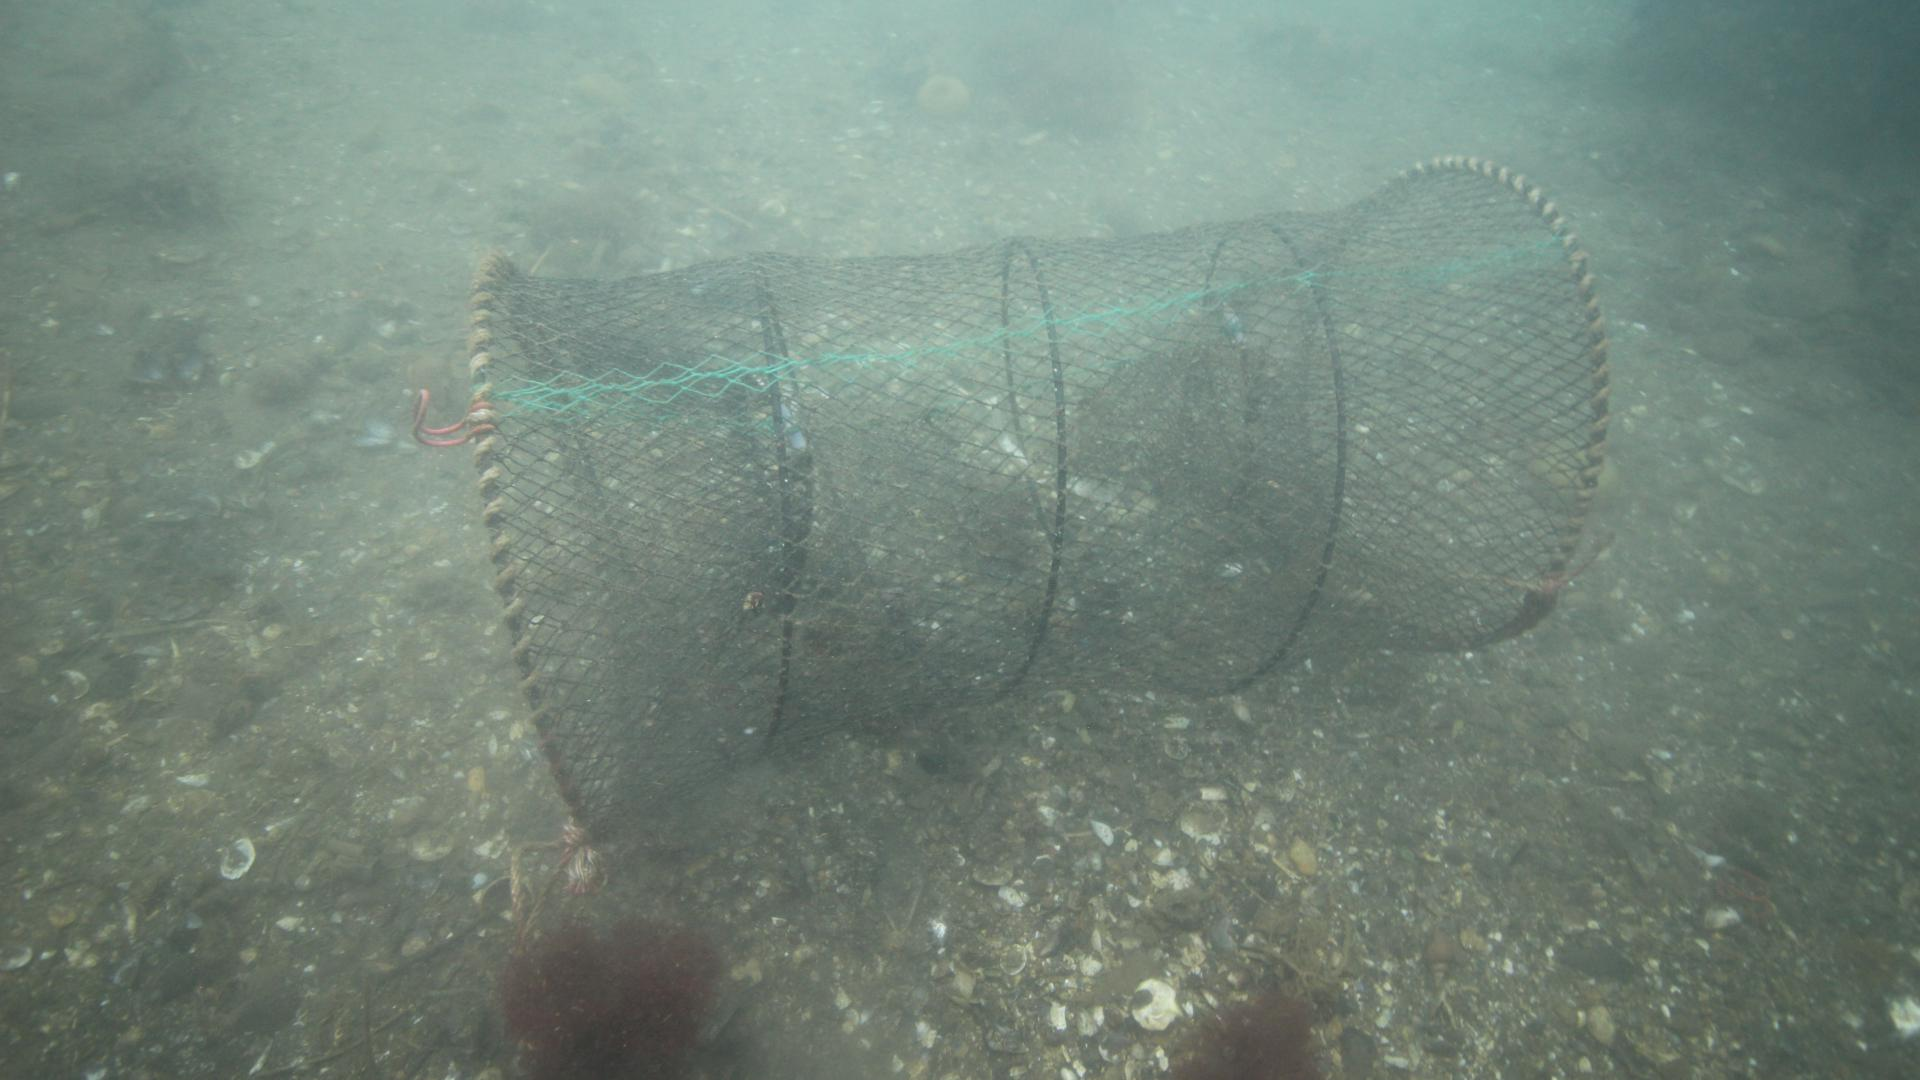spring fish trap: (465, 156, 1613, 847)
